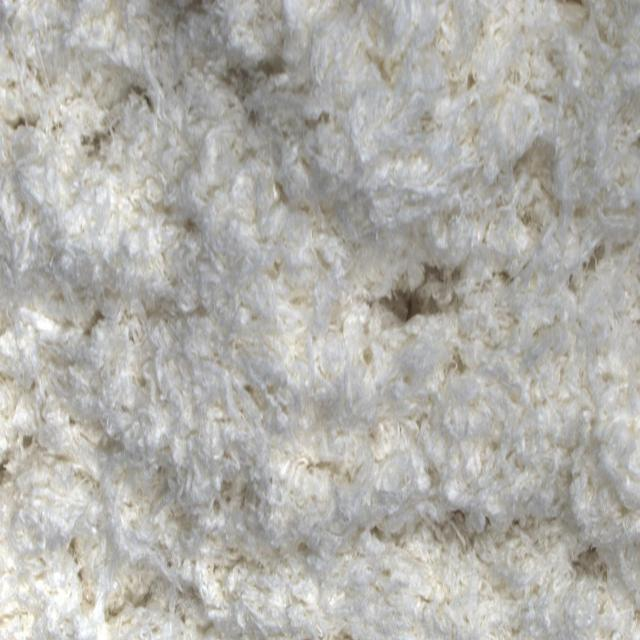dust: (387, 275, 457, 333)
